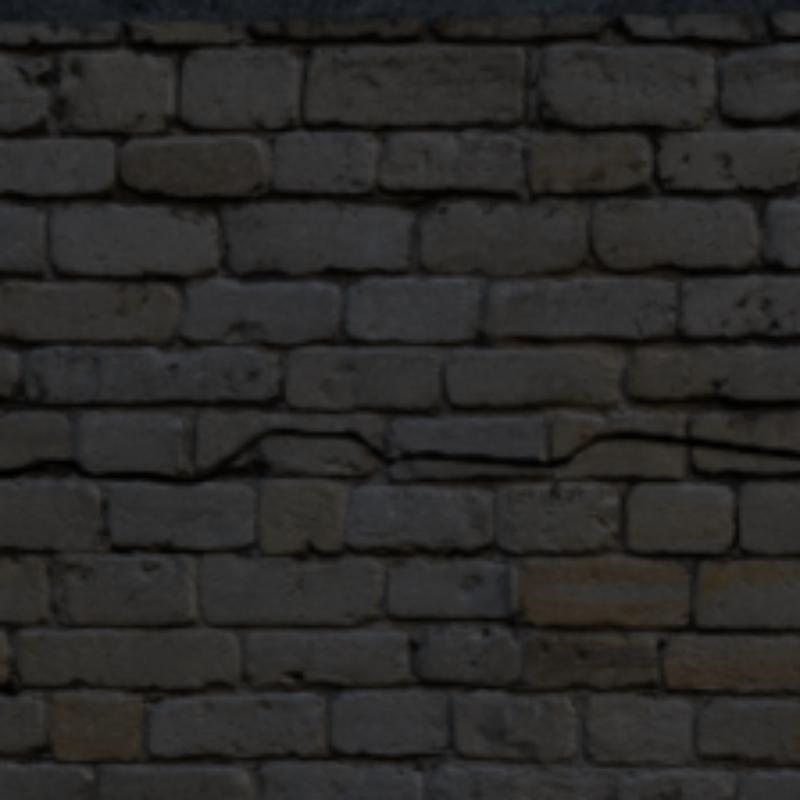crack: (2, 430, 566, 484), (566, 434, 799, 459)
